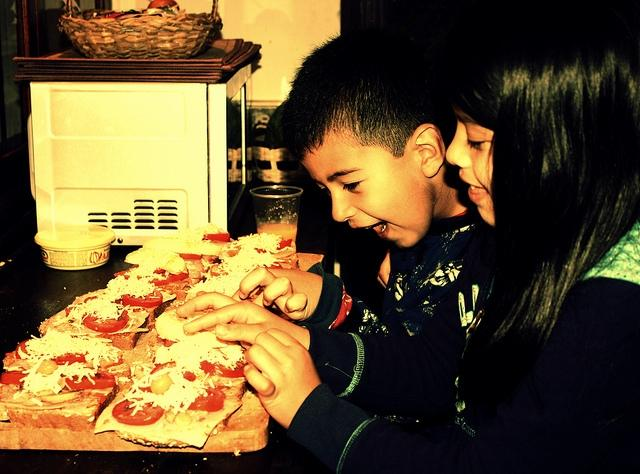tomato: (112, 398, 165, 426), (65, 369, 116, 390), (82, 310, 128, 332), (188, 386, 226, 412), (200, 360, 247, 378), (122, 289, 163, 308), (0, 366, 29, 384), (150, 273, 190, 286), (52, 352, 88, 365), (15, 339, 32, 360), (150, 362, 178, 374), (224, 242, 242, 257), (204, 233, 232, 242), (210, 264, 228, 276), (178, 252, 202, 259)
